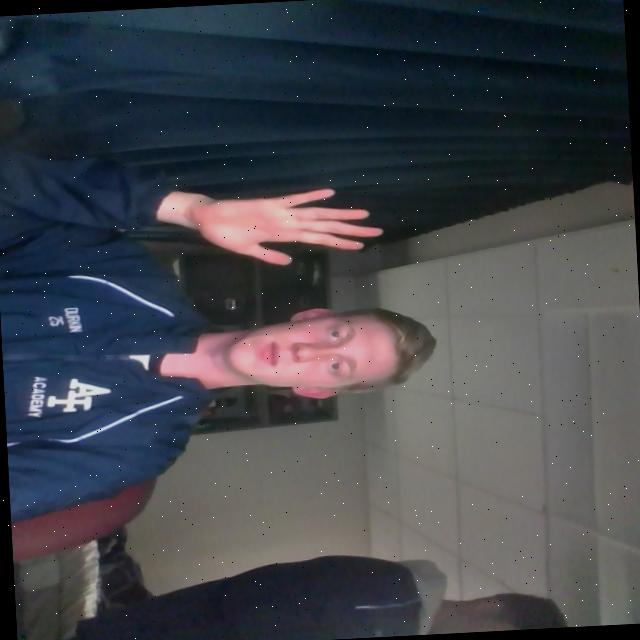paper: (170, 182, 386, 276)
